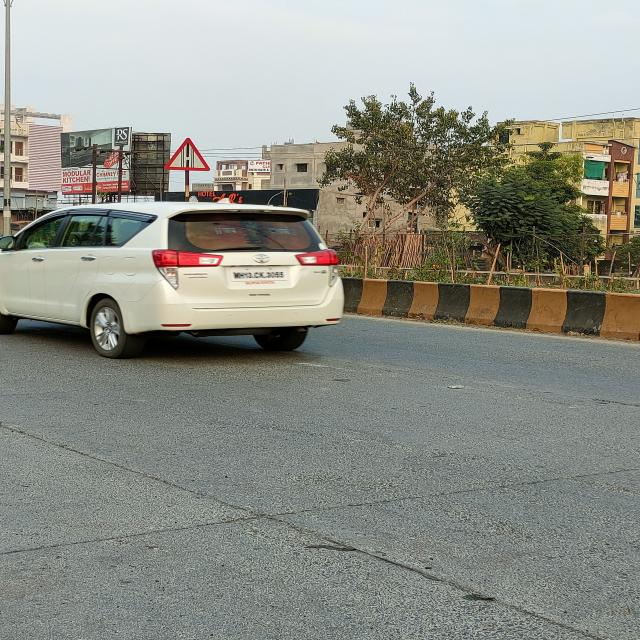GAP_IN_MEDIAN: (164, 137, 209, 171)
